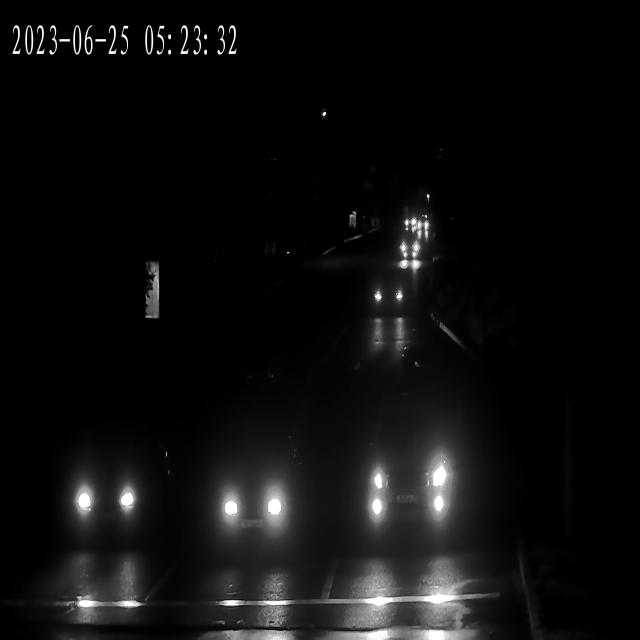Car: (359, 411, 457, 548), (70, 430, 157, 557), (220, 436, 299, 568), (369, 272, 407, 326), (396, 234, 421, 260), (398, 212, 418, 235), (415, 219, 429, 234)
